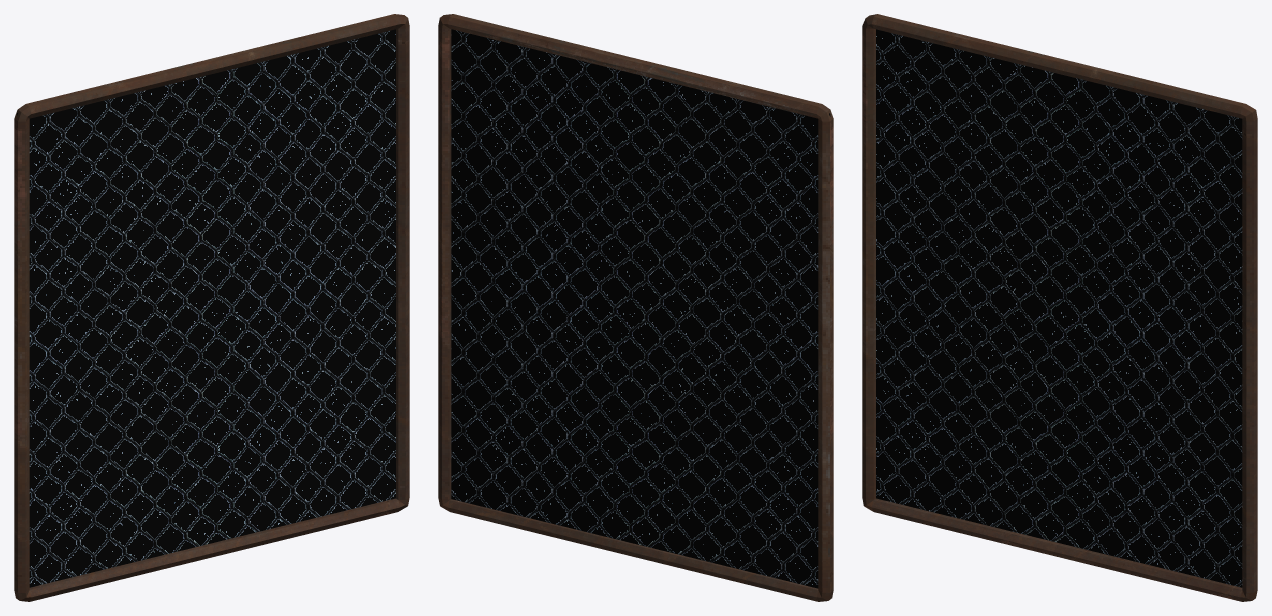
The model's file is gate.glb.
3 renders of one model, left to right at view 1: azimuth 30°, elevation 25°; view 2: azimuth 150°, elevation 25°; view 3: azimuth 330°, elevation 25°, orthographic.
Parts seen in each view (by area): view 1: gate; view 2: gate; view 3: gate.
Boxes of the visible parts, box(x1,y1,x2,y2) form: gate: box(14, 14, 409, 601); gate: box(438, 14, 833, 601); gate: box(862, 14, 1257, 601).
Bounding box in the file's own units: 1.03 × 1.25 × 0.0351.
Materials: 2 (2 with a texture image).
